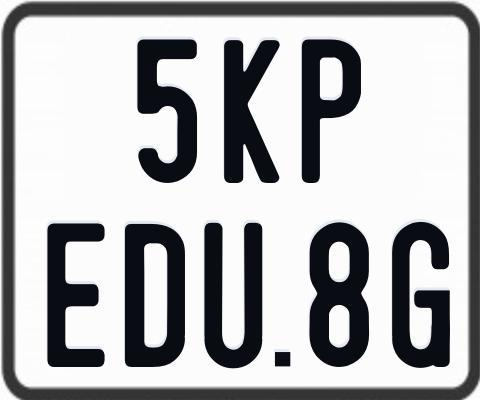5: (136, 37, 198, 182)
8: (308, 220, 369, 368)
D: (125, 223, 191, 372)
E: (47, 222, 105, 372)
G: (391, 221, 452, 369)
K: (224, 37, 286, 185)
P: (302, 39, 367, 185)
U: (204, 220, 268, 366)
